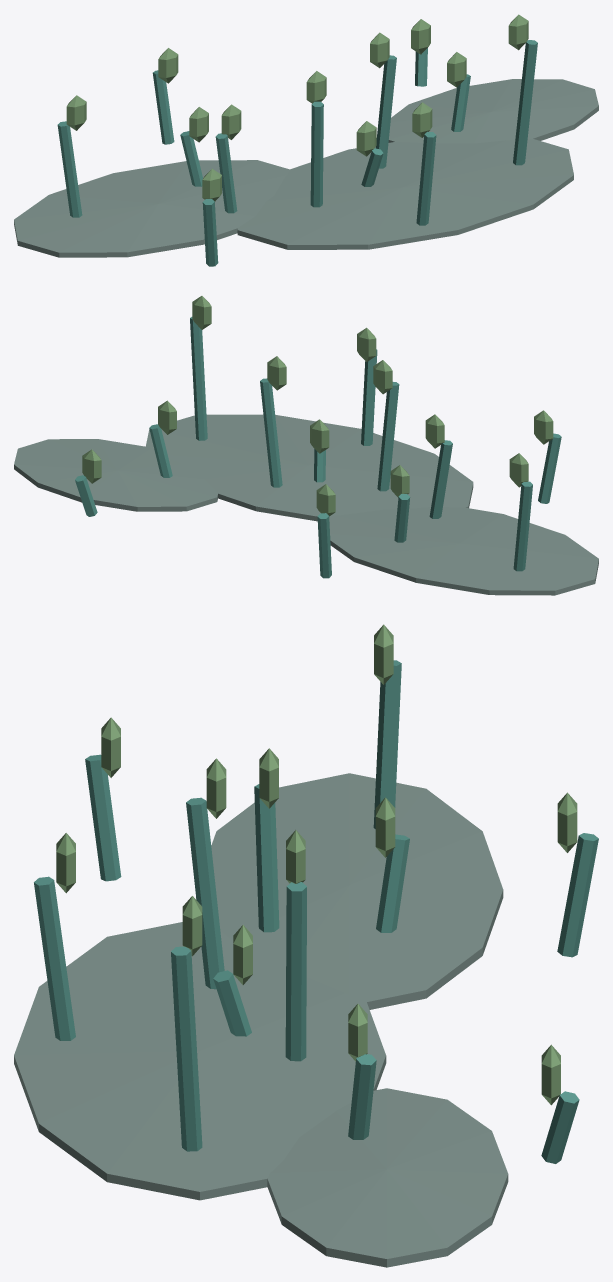
The model's file is silica_lichen_a.obj.
The picture shows the model from 3 angles, top to bottom: view 1: azimuth 30°, elevation 25°; view 2: azimuth 150°, elevation 25°; view 3: azimuth 270°, elevation 25°; orthographic projection. The views are drawn at different scales.
Parts seen in each view (by area): view 1: lichen_plate_1, lichen_plate_0, lichen_plate_2, glass_lichen_5, glass_lichen_3, glass_lichen_10, glass_lichen_1, glass_lichen_8, glass_lichen_6, glass_lichen_4, glass_lichen_11, glass_lichen_9 (+15 smaller); view 2: lichen_plate_1, lichen_plate_0, lichen_plate_2, glass_lichen_5, glass_lichen_10, glass_lichen_3, glass_lichen_1, glass_lichen_8, glass_lichen_6, glass_lichen_11, glass_lichen_4, glass_lichen_2 (+14 smaller); view 3: lichen_plate_1, lichen_plate_0, lichen_plate_2, glass_lichen_5, glass_lichen_10, glass_lichen_3, glass_lichen_8, glass_lichen_1, glass_lichen_6, glass_lichen_4, glass_lichen_11, glass_lichen_9 (+15 smaller).
Part boxes in pixels (<box>): lichen_plate_1: <box>237,138,573,249</box>; lichen_plate_0: <box>14,160,289,257</box>; lichen_plate_2: <box>388,79,598,143</box>; glass_lichen_5: <box>513,40,537,165</box>; glass_lichen_3: <box>310,101,323,207</box>; glass_lichen_10: <box>376,55,396,168</box>; glass_lichen_1: <box>57,121,82,217</box>; glass_lichen_8: <box>416,131,436,225</box>; glass_lichen_6: <box>215,133,237,213</box>; glass_lichen_4: <box>152,70,174,144</box>; glass_lichen_11: <box>202,199,218,266</box>; glass_lichen_9: <box>180,131,202,186</box>; lichen_plate_1: <box>145,414,473,521</box>; lichen_plate_0: <box>329,507,598,595</box>; lichen_plate_2: <box>14,439,217,511</box>; glass_lichen_5: <box>190,317,207,440</box>; glass_lichen_10: <box>260,378,282,487</box>; glass_lichen_3: <box>377,382,399,491</box>; glass_lichen_1: <box>513,481,532,571</box>; glass_lichen_8: <box>361,349,377,445</box>; glass_lichen_6: <box>429,440,452,518</box>; glass_lichen_11: <box>538,433,561,503</box>; glass_lichen_4: <box>317,513,331,578</box>; glass_lichen_2: <box>149,424,172,477</box>; lichen_plate_1: <box>14,922,386,1200</box>; lichen_plate_0: <box>196,773,503,1009</box>; lichen_plate_2: <box>267,1088,508,1267</box>; glass_lichen_5: <box>171,946,202,1151</box>; glass_lichen_10: <box>285,882,306,1061</box>; glass_lichen_3: <box>186,797,224,989</box>; glass_lichen_8: <box>34,876,75,1040</box>; glass_lichen_1: <box>373,660,401,828</box>; glass_lichen_6: <box>254,784,279,932</box>; glass_lichen_4: <box>557,833,598,957</box>; glass_lichen_11: <box>85,754,121,881</box>; glass_lichen_9: <box>376,834,409,932</box>.
Size of the model in its own units: 6.15 by 1.57 by 3.13.
